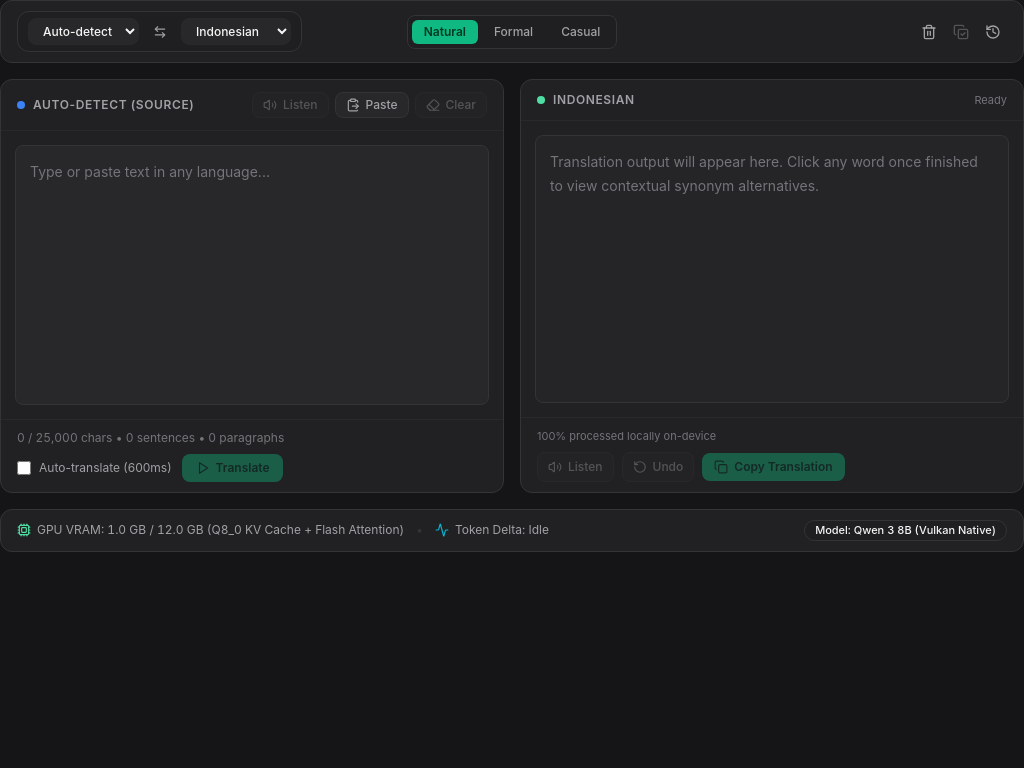
it: TextTranslatorPage Flows › auto-switches target language to English when Indonesian is detected while target is Indonesian
Type "Kamu tidak perlu menanggung semuanya sendirian." into the text box named "Auto-detect source text" at [252, 275], box x1=15 y1=145 x2=489 y2=405
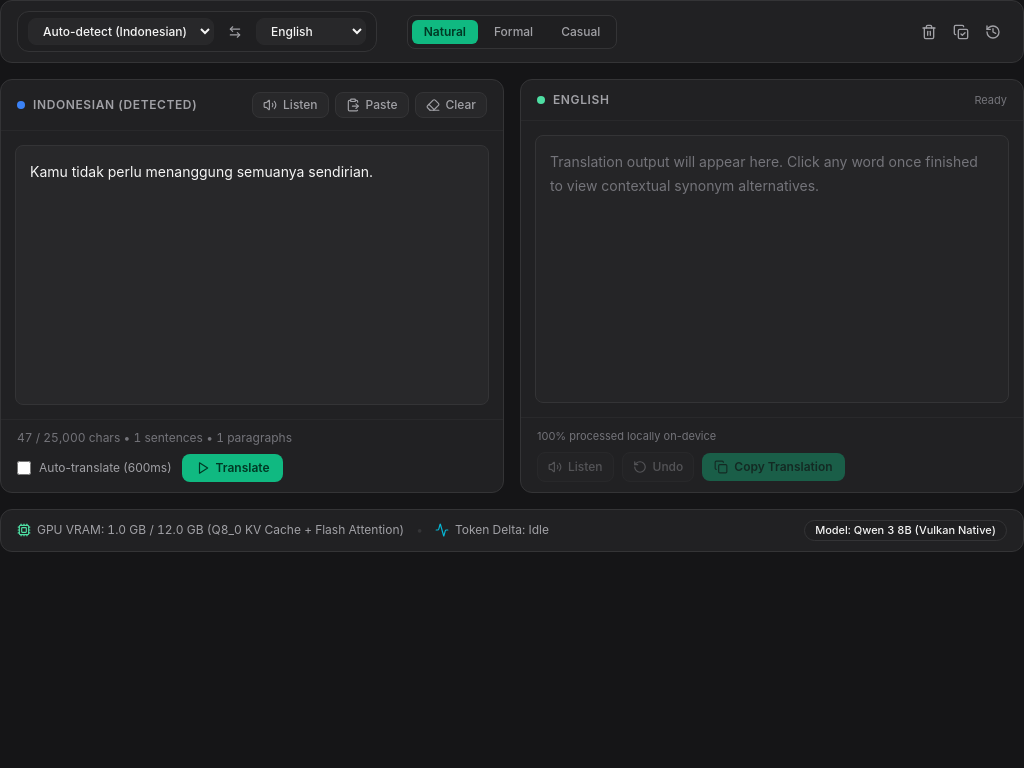
expect the element named "English translation output" is shown: met, box x1=535 y1=135 x2=1009 y2=402
expect the text "INDONESIAN (DETECTED)" is shown: met, box x1=33 y1=97 x2=197 y2=113
